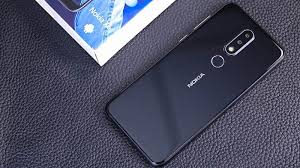nokia: (98, 1, 290, 166)
